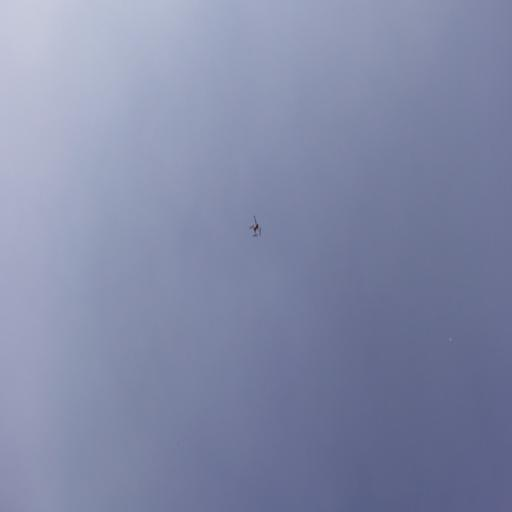drones: (248, 214, 263, 240)
